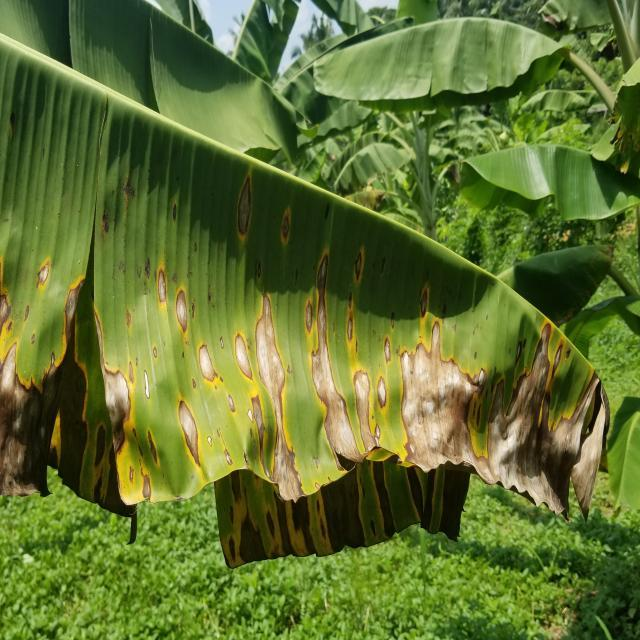Early_rust: (0, 98, 609, 547)
